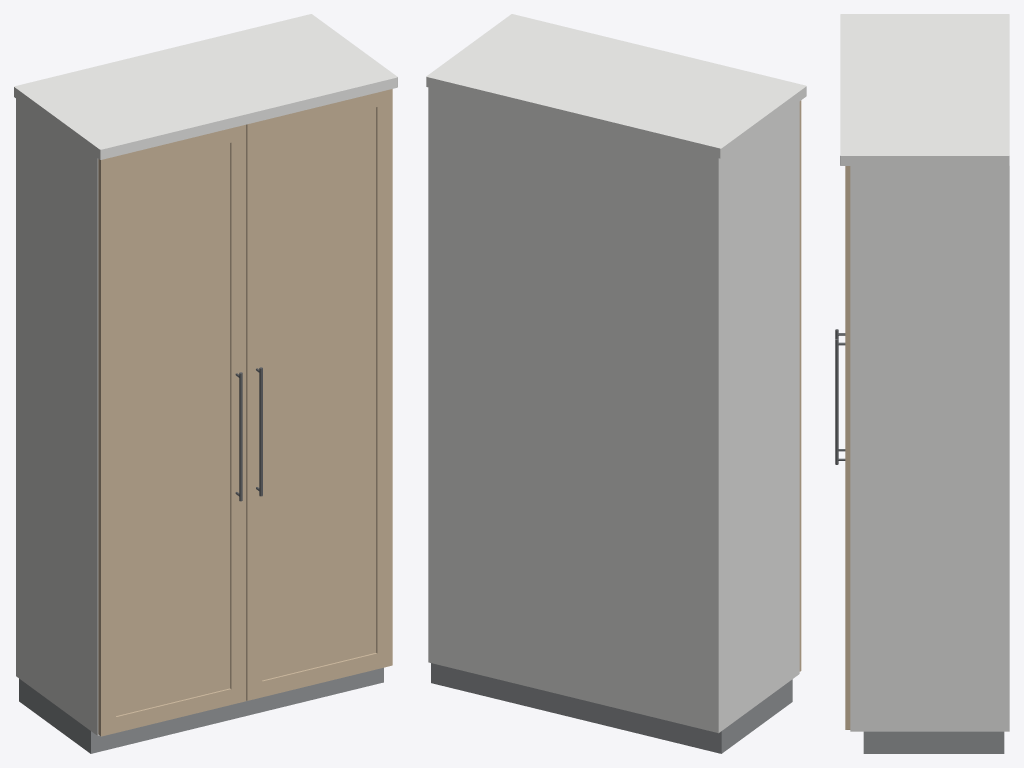
3 renders of one model, left to right at view 1: azimuth 30°, elevation 25°; view 2: azimuth 150°, elevation 25°; view 3: azimuth 270°, elevation 25°, orthographic. The views are drawn at different scales.
Parts seen in each view (by area): view 1: Tủ áo cánh mở Chiều rộng=1200; Chiều sâu=600; view 2: Tủ áo cánh mở Chiều rộng=1200; Chiều sâu=600; view 3: Tủ áo cánh mở Chiều rộng=1200; Chiều sâu=600.
Part boxes in pixels (<box>): Tủ áo cánh mở Chiều rộng=1200; Chiều sâu=600: <box>14,14,397,753</box>; Tủ áo cánh mở Chiều rộng=1200; Chiều sâu=600: <box>426,14,806,753</box>; Tủ áo cánh mở Chiều rộng=1200; Chiều sâu=600: <box>835,14,1009,753</box>.
Size of the model in its own units: 1.22 by 2.4 by 0.633.
